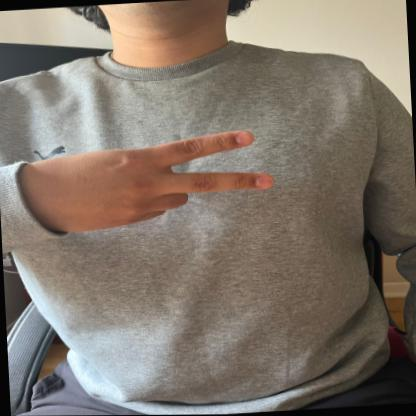H: (12, 123, 277, 245)
